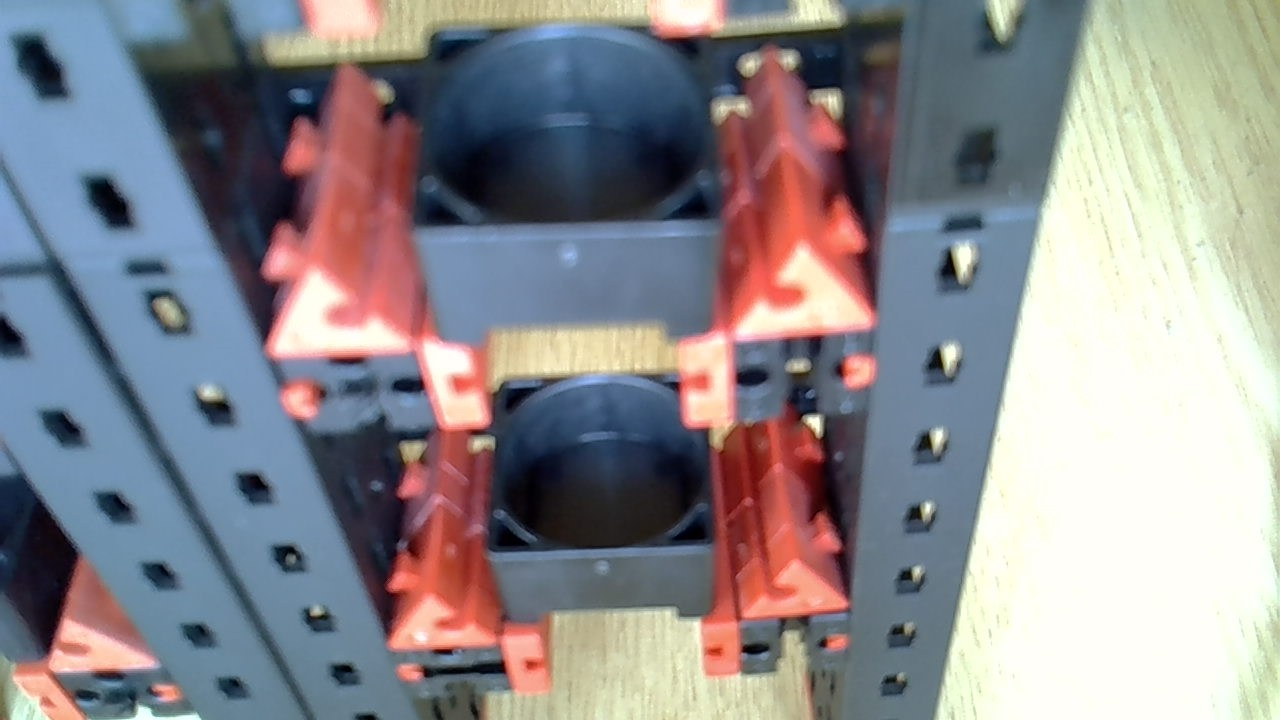Behaelter: (413, 29, 722, 338), (493, 379, 712, 617)
